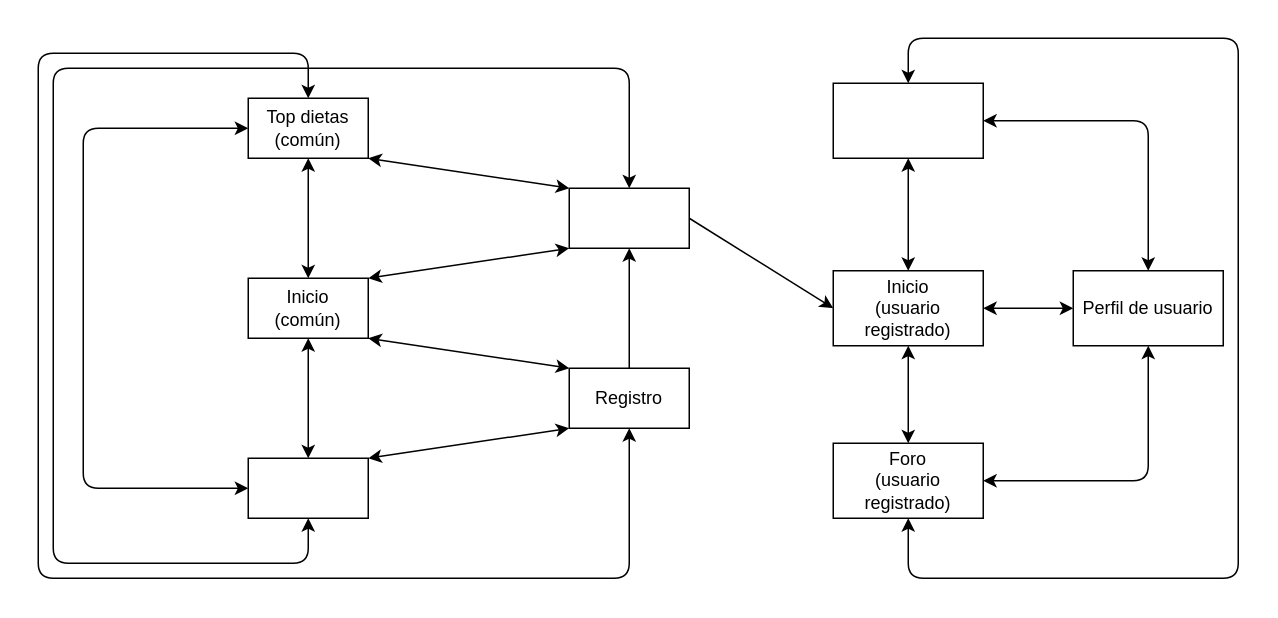
This 1278x618 diagram has some shape labels left out. Each missing label, with the centre of its shape:
Foro (común): point (307, 487)
Iniciar sesión: point (628, 217)
Top dietas (usuario registrado): point (907, 120)
